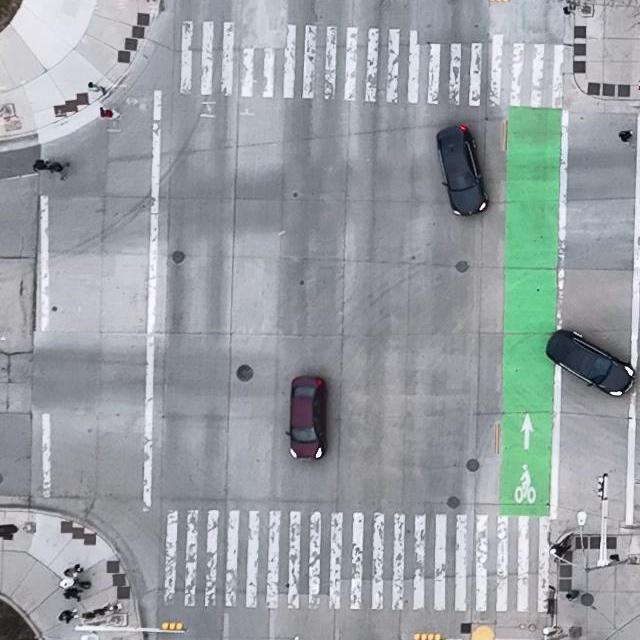car: (545, 328, 635, 397), (436, 125, 489, 217), (285, 374, 328, 459)
